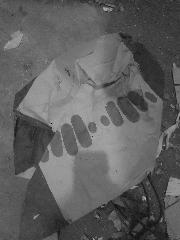paper: (14, 33, 164, 223), (3, 30, 22, 50), (165, 176, 179, 196)
